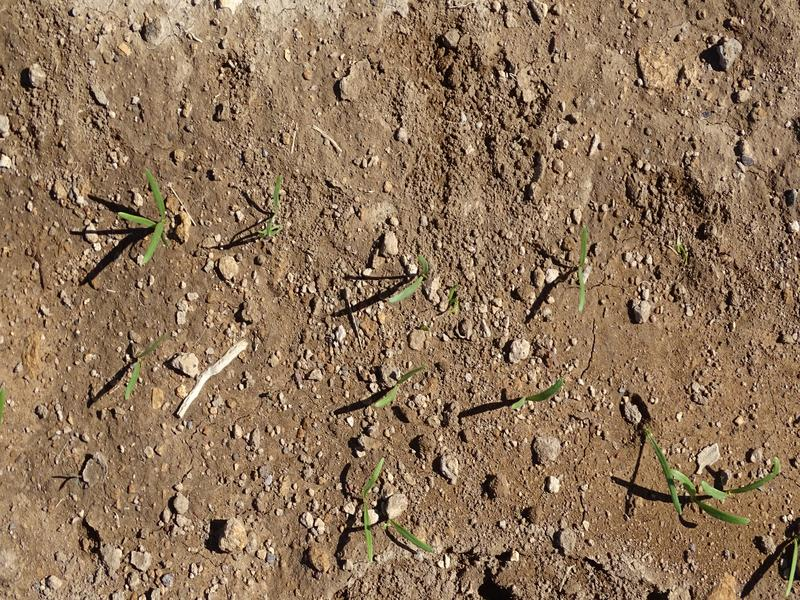Espinaca: (647, 427, 782, 531), (350, 466, 438, 563), (124, 172, 176, 266), (373, 364, 429, 415), (383, 253, 437, 304), (254, 175, 293, 242), (505, 375, 572, 414), (127, 336, 164, 396), (573, 224, 595, 314)
